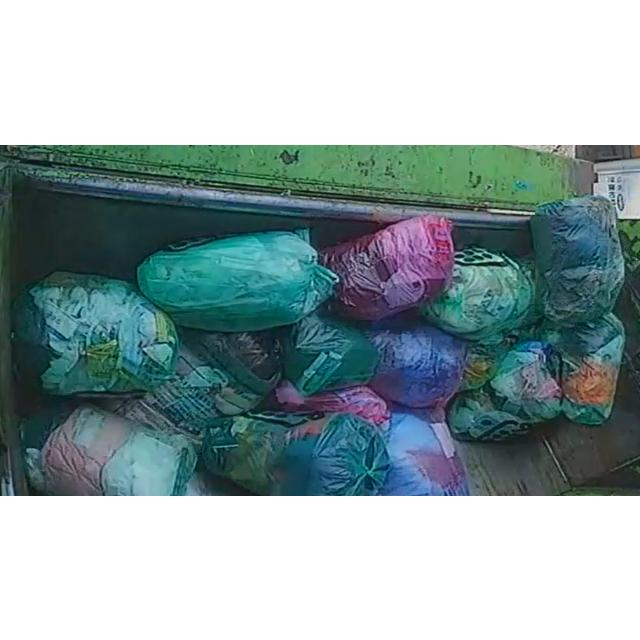general_trashbag: (138, 230, 339, 331), (19, 272, 179, 395), (116, 328, 281, 443), (202, 413, 390, 495), (41, 406, 196, 495), (531, 195, 624, 325), (449, 340, 562, 441), (424, 248, 534, 339), (546, 312, 625, 423), (282, 313, 378, 396), (459, 324, 539, 390)
